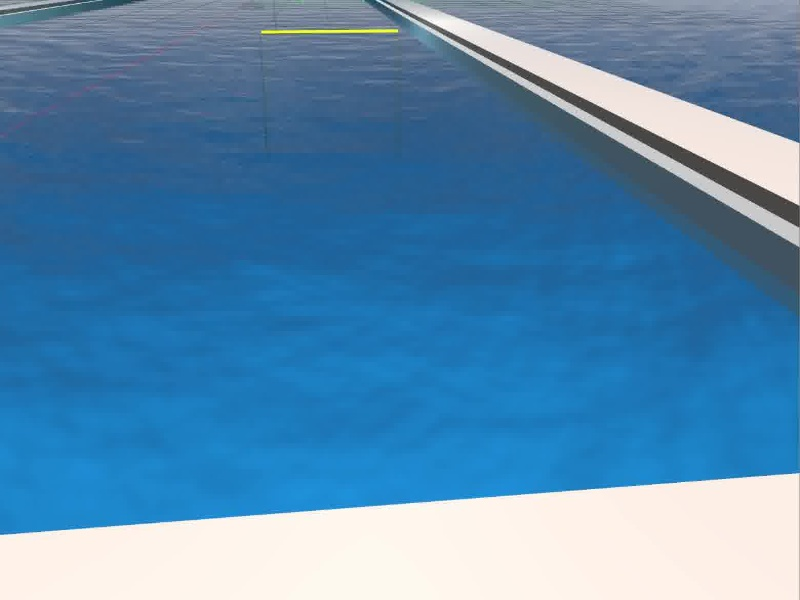gate: (257, 28, 406, 162)
